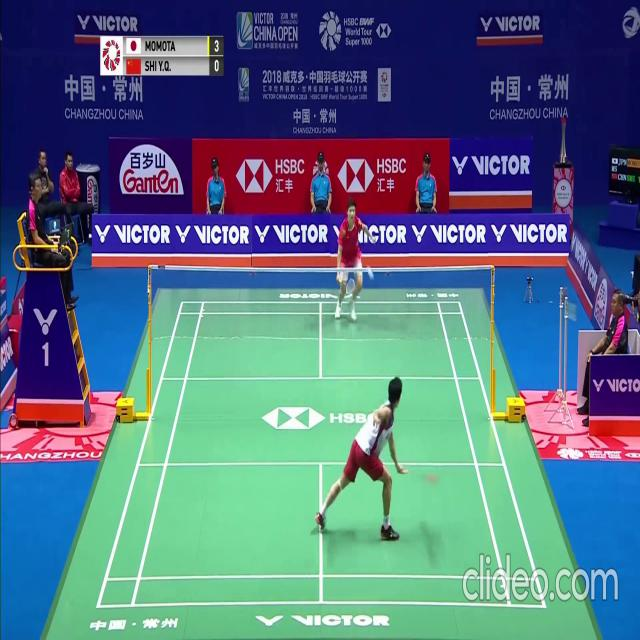Shuttlecock: (365, 264, 370, 272)
